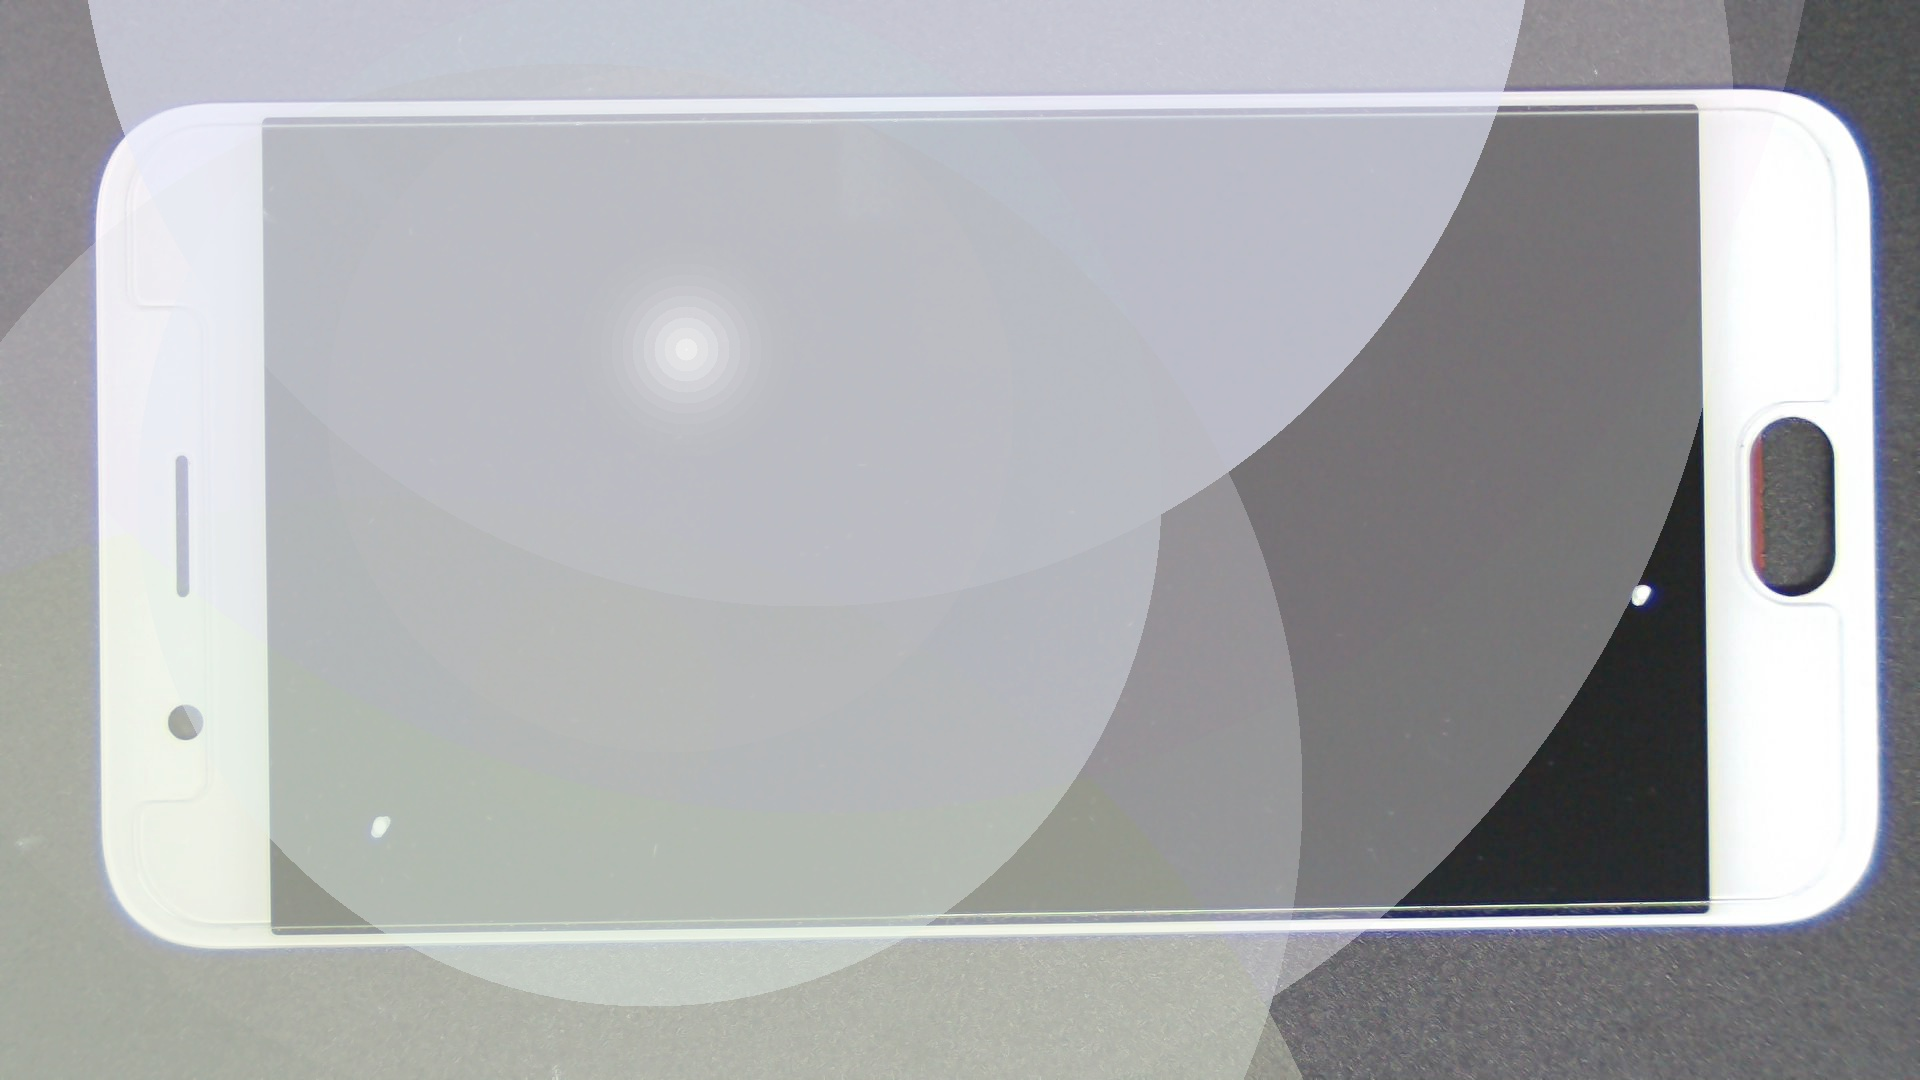oil: (819, 291, 1920, 876), (194, 406, 580, 1080)
